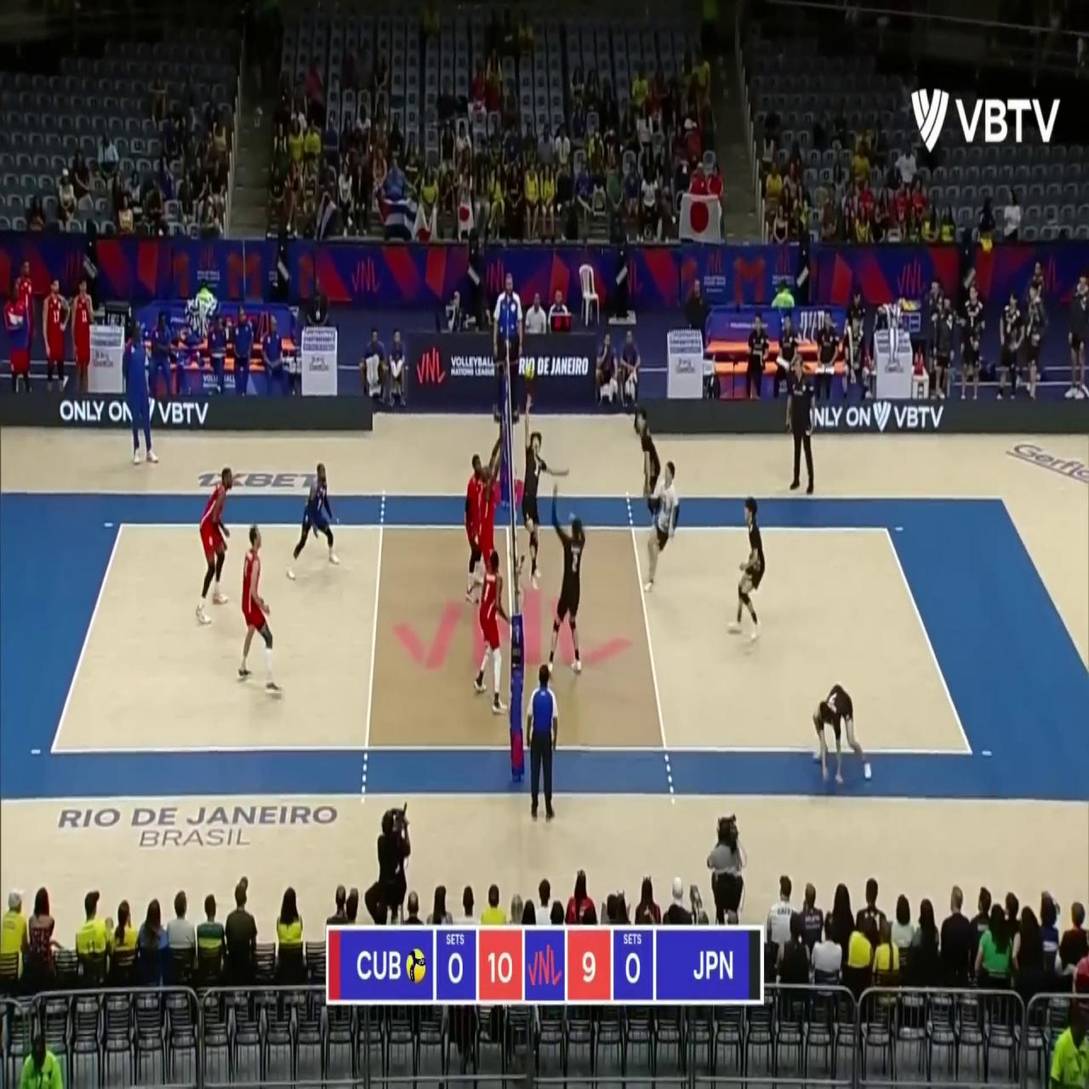ball: (526, 363, 534, 381)
